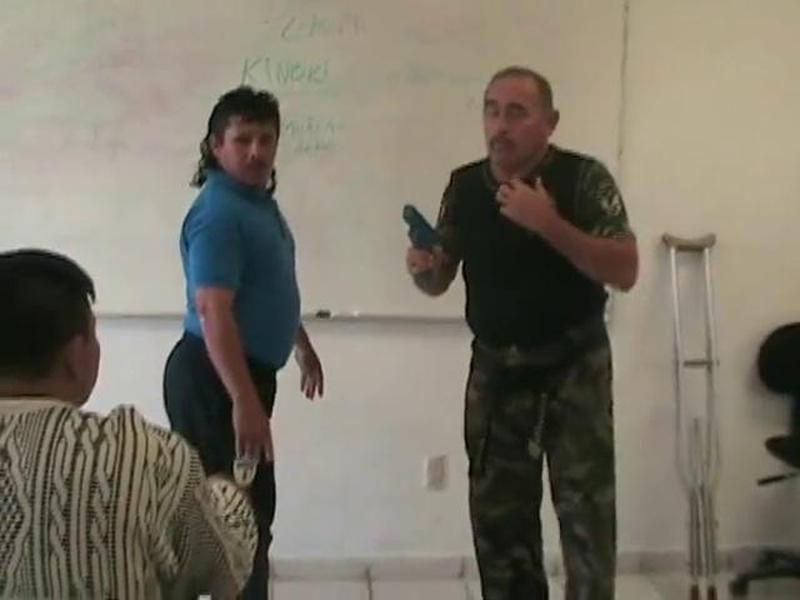Pistola: (372, 202, 455, 285)
